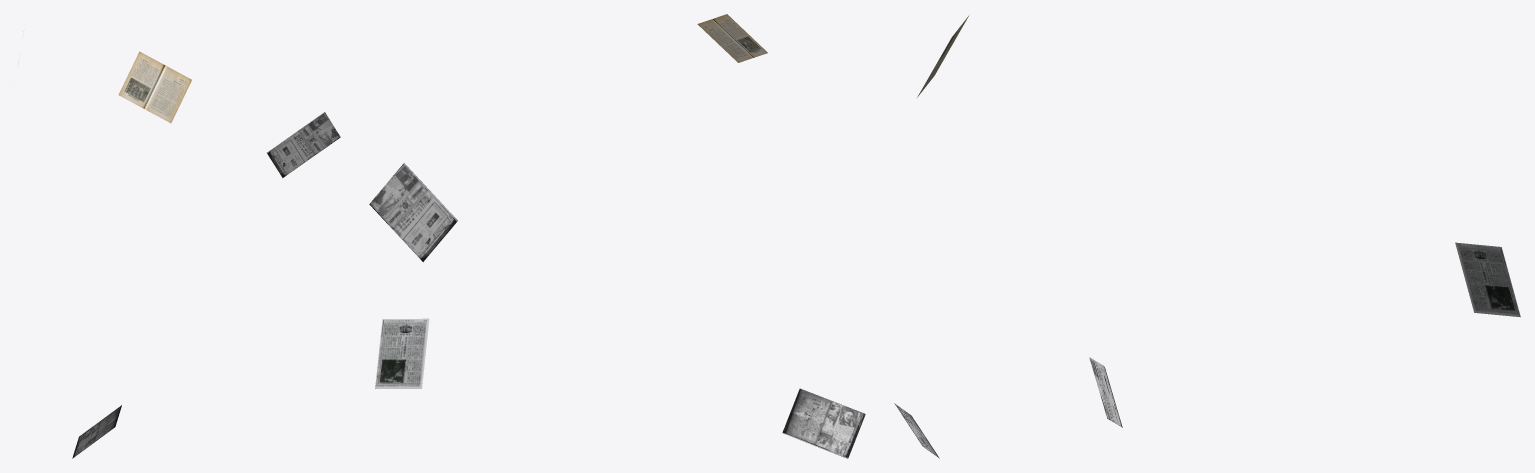
The model's file is world_click_article.gltf.
The picture shows the model from 3 angles, left to right: view 1: azimuth 30°, elevation 25°; view 2: azimuth 150°, elevation 25°; view 3: azimuth 270°, elevation 25°; orthographic projection. The views are drawn at different scales.
Visible parts, largest first — view 1: article.028, article.002, article.001; view 2: article.002, article.001, article.030, article.028; view 3: article.030, article.002.
Boxes of the visible parts, x1,y1,x2,y2 form: article.028: (118, 51, 191, 123); article.002: (267, 112, 340, 177); article.001: (72, 405, 121, 458); article.002: (369, 163, 457, 261); article.001: (782, 388, 865, 458); article.030: (375, 318, 429, 388); article.028: (697, 14, 767, 62); article.030: (1455, 242, 1520, 317); article.002: (1089, 357, 1122, 427).
Bounding box in the file's own units: 7.96 × 8.28 × 9.65.
4 materials, 4 textured.
